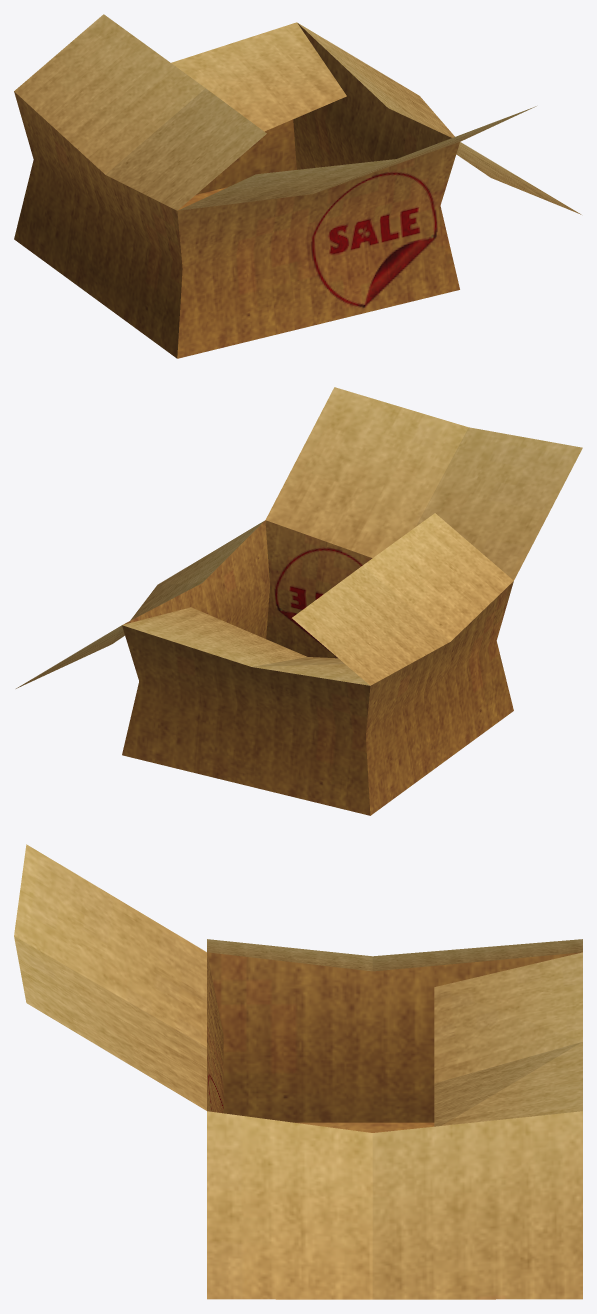
File: Box_Pappe_02.FBX
3 renders of one model, top to bottom at view 1: azimuth 30°, elevation 25°; view 2: azimuth 150°, elevation 25°; view 3: azimuth 270°, elevation 25°, orthographic. The views are drawn at different scales.
Parts seen in each view (by area): view 1: Box033; view 2: Box033; view 3: Box033.
Boxes of the visible parts, <box> form: Box033: <box>14,14,581,358</box>; Box033: <box>16,387,582,815</box>; Box033: <box>14,844,582,1299</box>.
Size of the model in its own units: 0.5736 by 0.327 by 0.6055.
